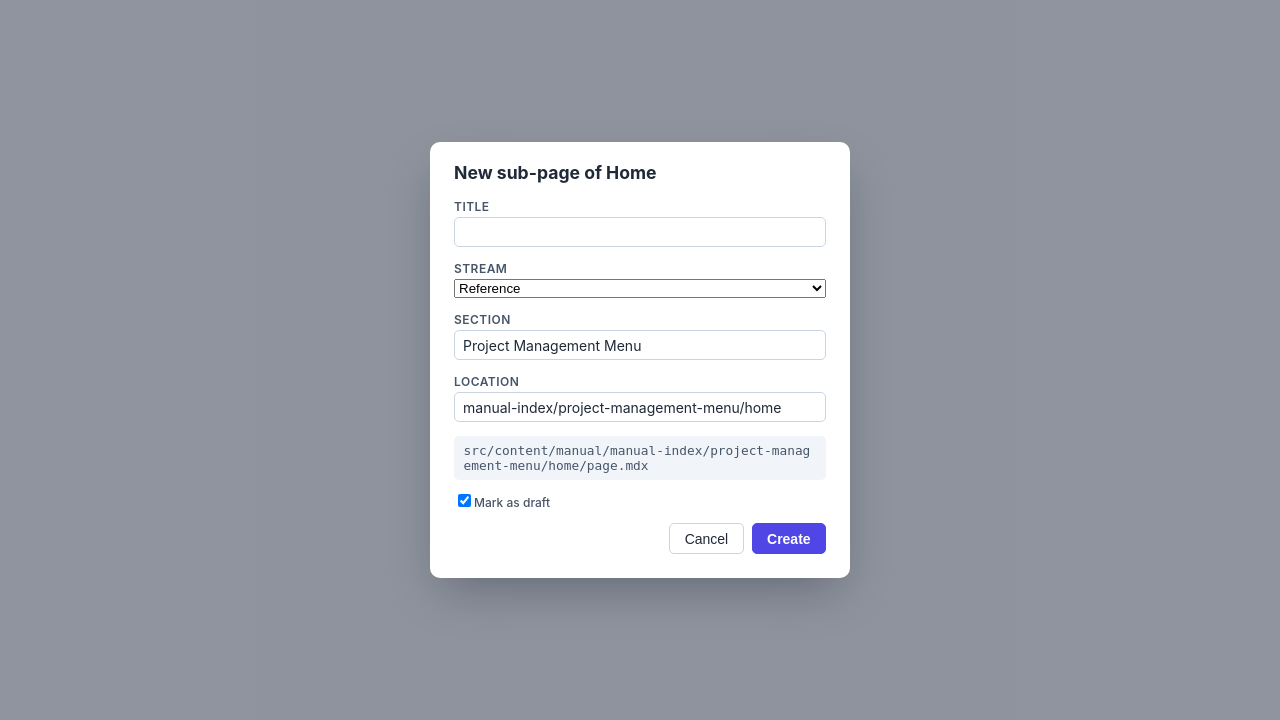
Test: with a parent, pre-fills location + section and previews a nested path
This screenshot has width=1280, height=720.
Expected: the heading "New sub-page of Home" is shown, [454,162,657,183]
Type "Cloud Backups" into the field labelled "Title".
click(640, 232); type("Cloud Backups")  # box [454,217,826,248]
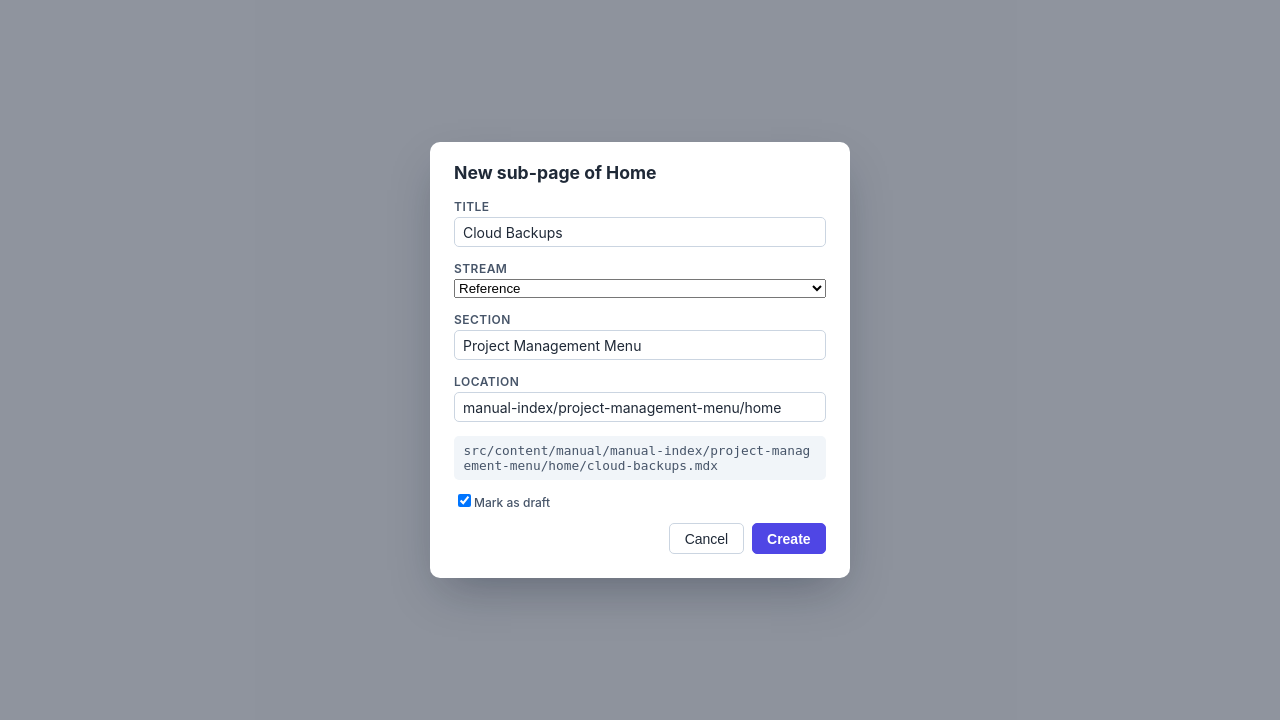
Now the text with test id "new-page-path-preview" reads "src/content/manual/manual-index/project-management-menu/home/cloud-backups.mdx", box [464,443,810,473]
